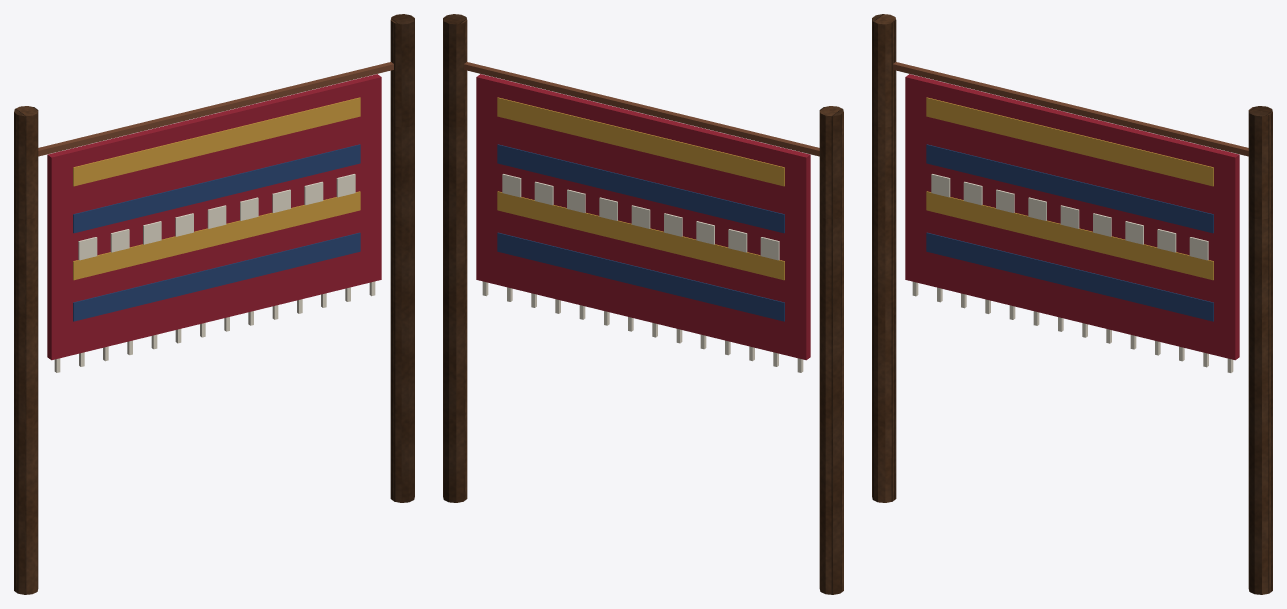
File: KilimLine.fbx
3 renders of one model, left to right at view 1: azimuth 30°, elevation 25°; view 2: azimuth 150°, elevation 25°; view 3: azimuth 330°, elevation 25°, orthographic.
Visible parts, largest first — view 1: KilimLine; view 2: KilimLine; view 3: KilimLine.
Part boxes in pixels (bbox=[...]): KilimLine: bbox=[14, 14, 414, 594]; KilimLine: bbox=[443, 14, 843, 594]; KilimLine: bbox=[872, 14, 1272, 594].
Size of the model in its own units: 2.21 by 2.55 by 0.12.
